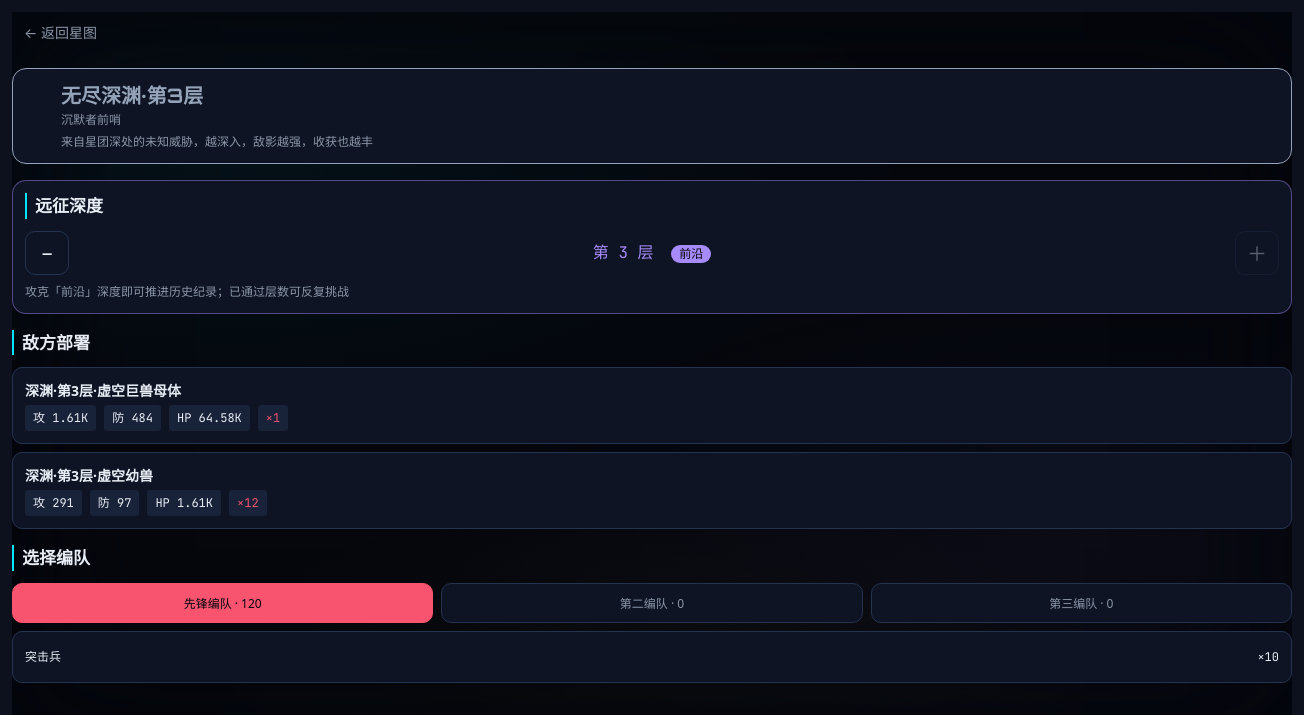
Test case: BattleView — 无尽远征深度步进 › 进页跟随前沿且加号禁用，退至深度 1 后减号禁用
Expected: the element with test id "endless-depth-value" shows "前沿", [679, 246, 703, 262]
Expected: the button with test id "endless-depth-plus" is disabled, [1235, 230, 1279, 274]
Click the button with test id "endless-depth-minus" at (47, 252), box [25, 230, 69, 274]
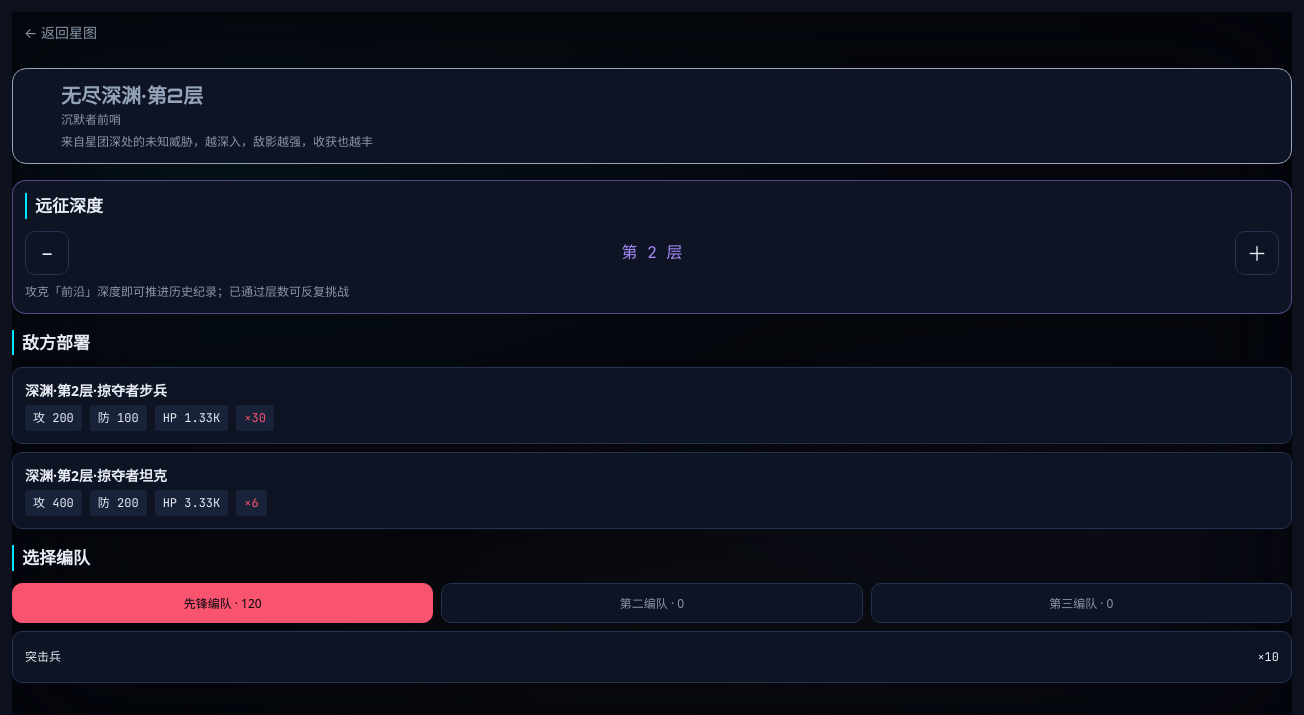
Click the button with test id "endless-depth-minus" at (47, 252), box [25, 230, 69, 274]
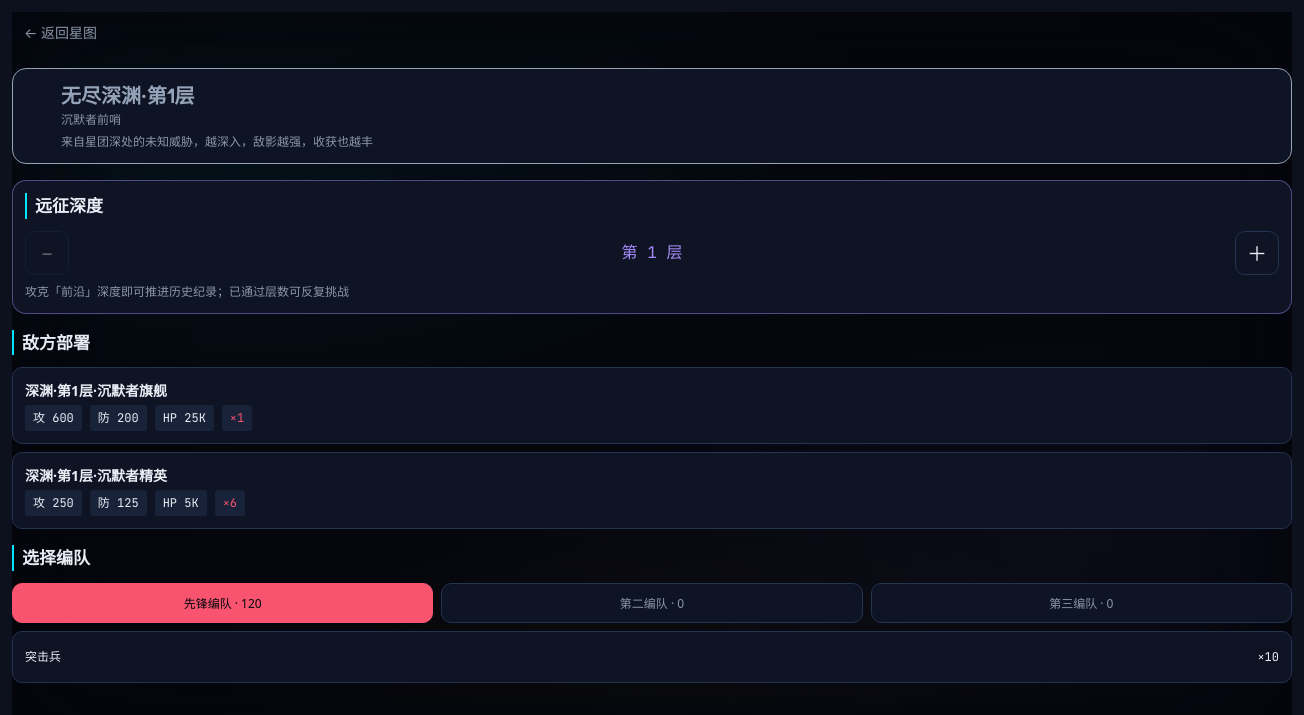
Expected: the text with test id "endless-depth-value" reads "第 1 层", [622, 242, 682, 262]
